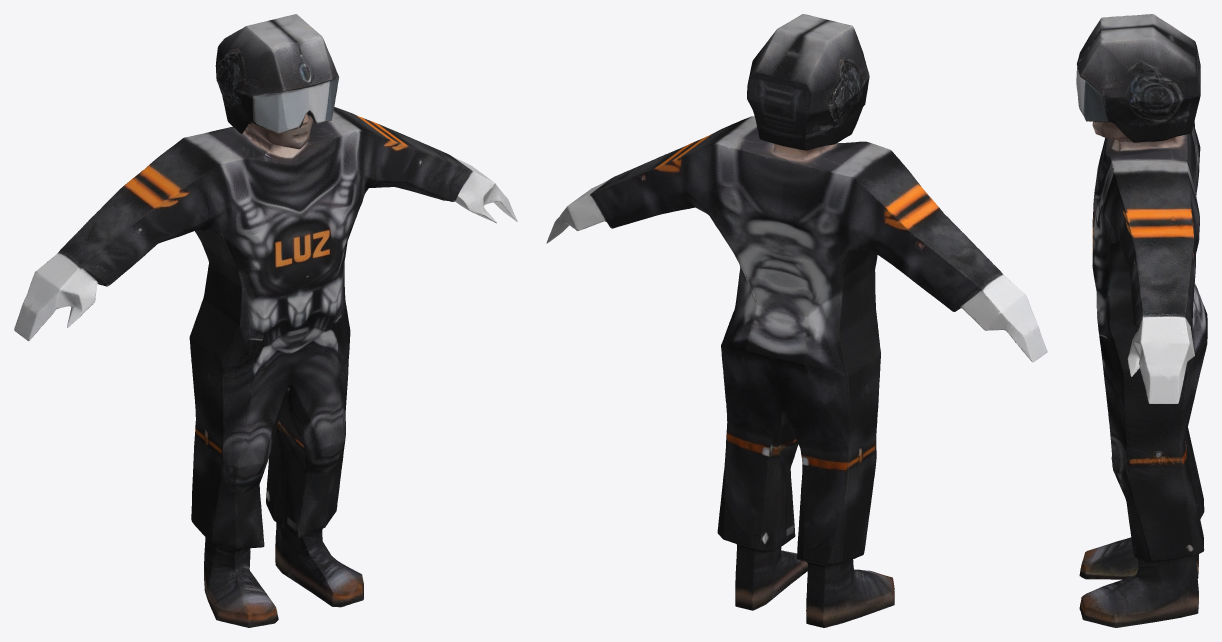
File: LUZ.glb
3 views of the same model, side by side, from view 1: azimuth 30°, elevation 25°; view 2: azimuth 150°, elevation 25°; view 3: azimuth 270°, elevation 25° (orthographic).
Visible parts, largest first — view 1: mesh_node; view 2: mesh_node; view 3: mesh_node.
Boxes of the visible parts, x1,y1,x2,y2 form: mesh_node: (14, 14, 517, 627); mesh_node: (546, 14, 1047, 627); mesh_node: (1076, 14, 1207, 627).
Size of the model in its own units: 1.71 by 1.9 by 0.3988.
1 material, 1 textured.
